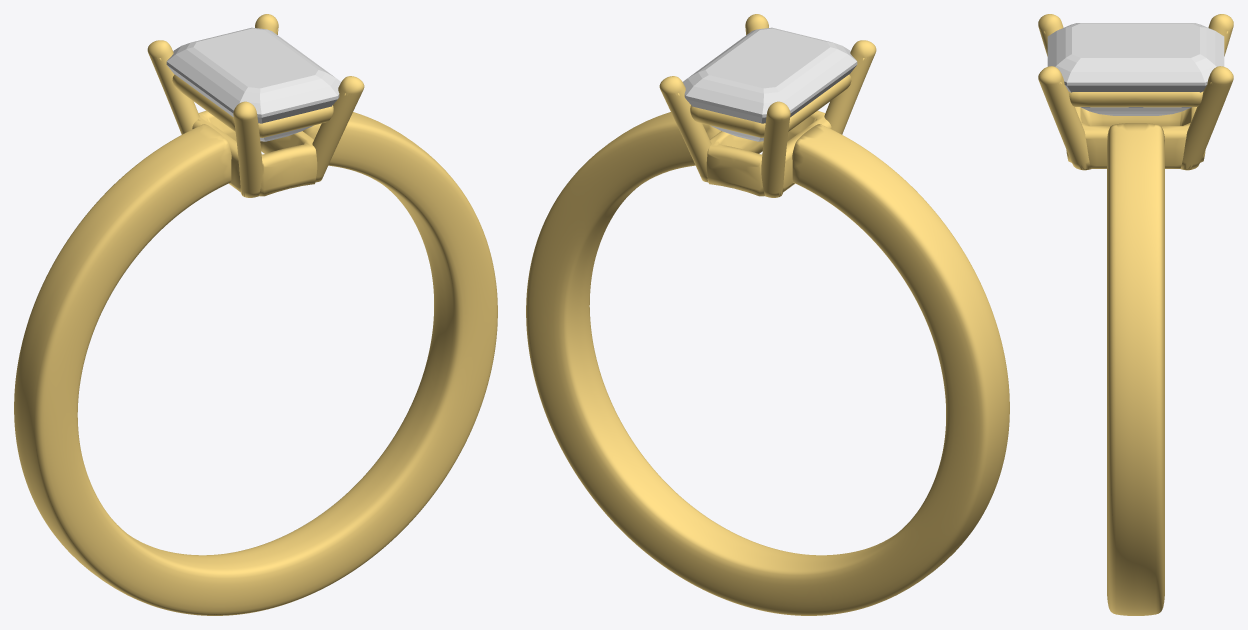
Rendered from diamond-emerald-yellowgold-4prong-straightband-solitaire.glb.
3 renders of one model, left to right at view 1: azimuth 30°, elevation 25°; view 2: azimuth 150°, elevation 25°; view 3: azimuth 270°, elevation 25°, orthographic.
Parts seen in each view (by area): view 1: metal.003, stone; view 2: metal.003, stone; view 3: metal.003, stone.
Boxes of the visible parts, left/top/right/bottom form: metal.003: left=14, top=14, right=497, bottom=615; stone: left=166, top=27, right=340, bottom=141; metal.003: left=526, top=14, right=1009, bottom=615; stone: left=683, top=27, right=857, bottom=141; metal.003: left=1038, top=14, right=1233, bottom=615; stone: left=1047, top=23, right=1224, bottom=115.
Bounding box in the file's own units: 20.51 × 22.95 × 7.4.
